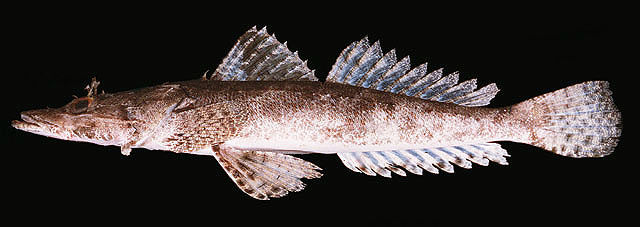fish: (12, 26, 622, 201)
